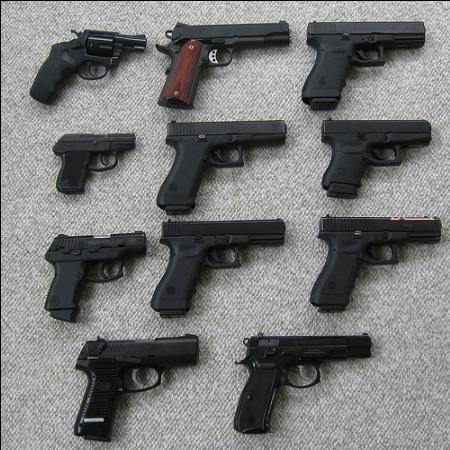Pistol: (232, 330, 374, 434), (73, 331, 201, 441), (310, 210, 442, 311), (152, 216, 284, 316), (40, 229, 146, 322)
